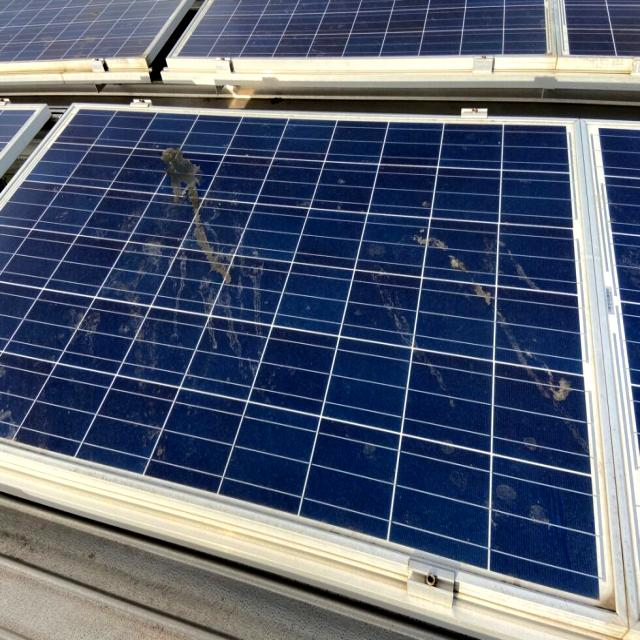bird: (144, 137, 246, 299), (404, 212, 505, 344), (514, 358, 584, 418)
